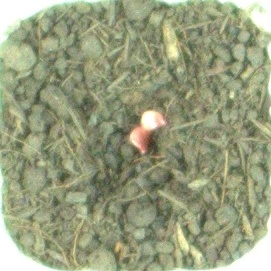chilli seed: (128, 124, 158, 155), (138, 108, 170, 132)
